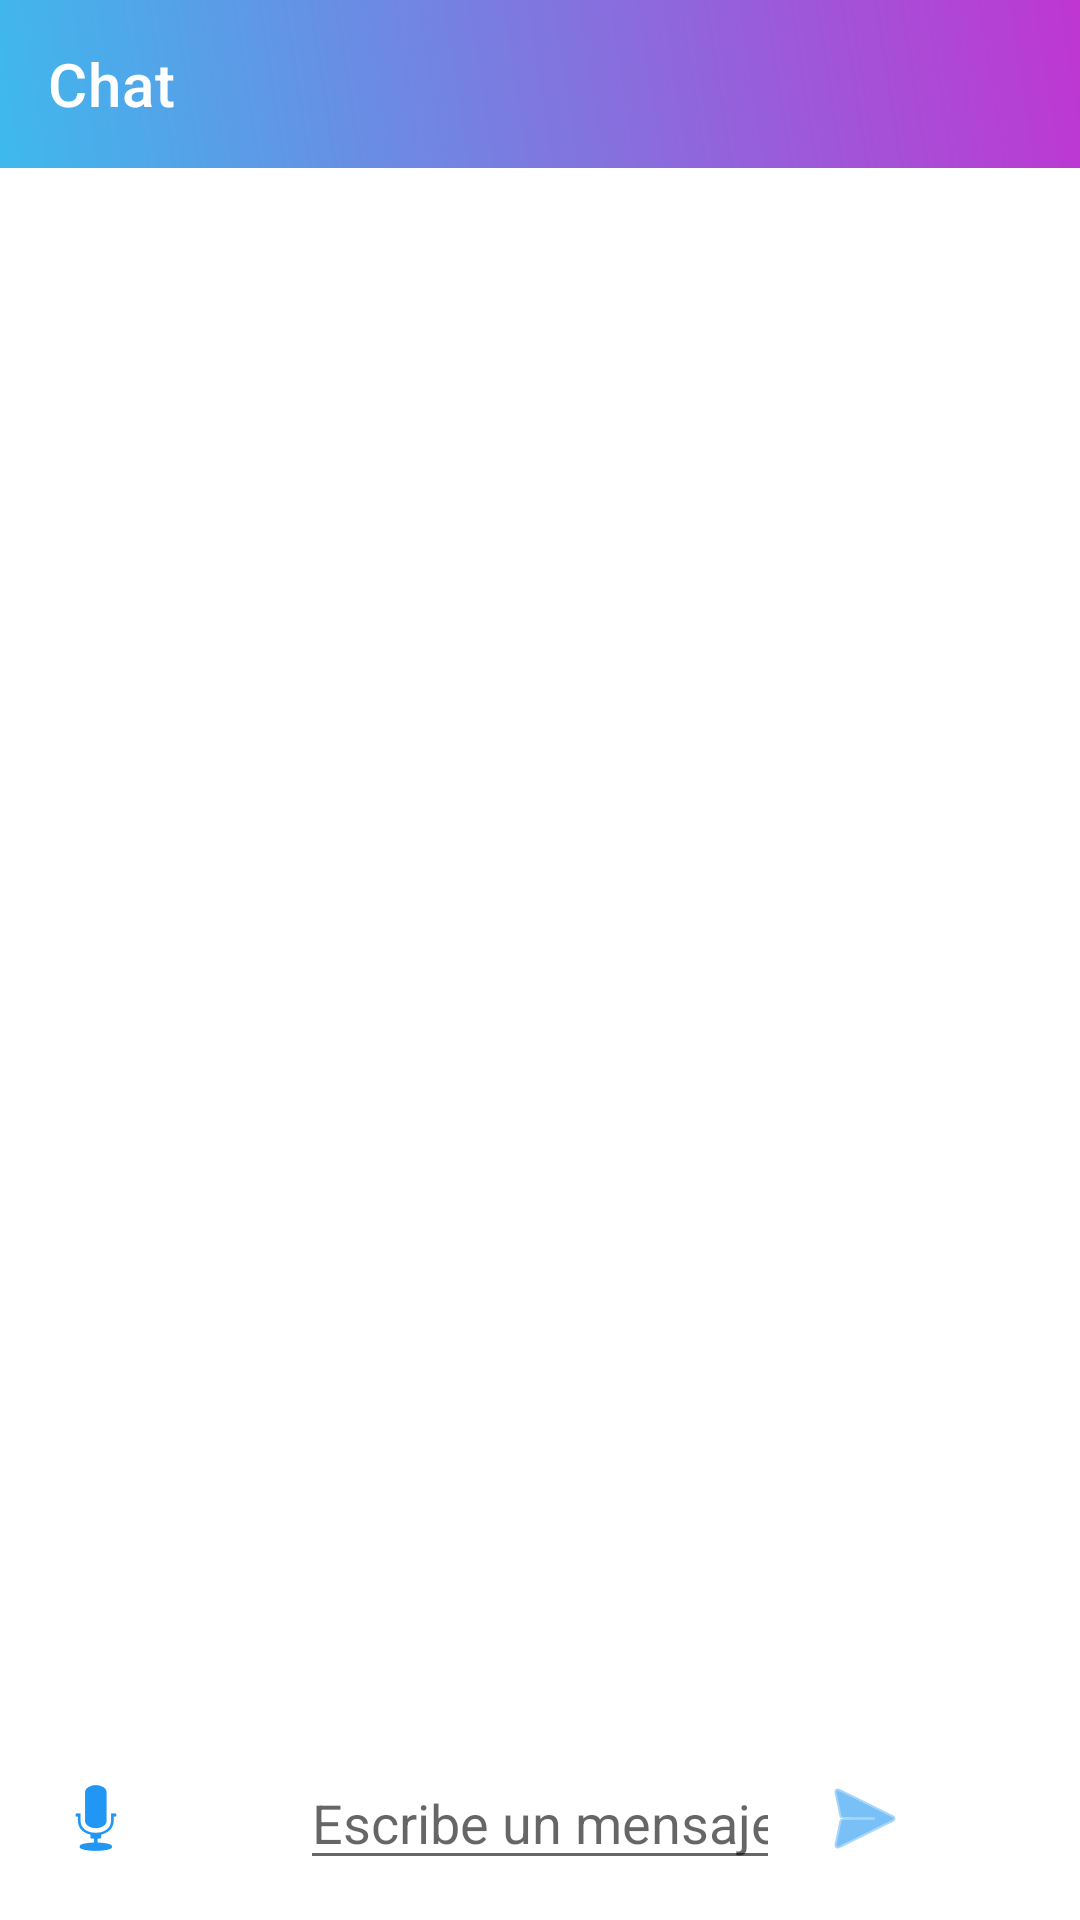

Named icons in this screenshot (1080 x 1920) and their bounding boxes, [x1,y1,x2,y2]:
Enviar mensaje: [834,1788,896,1849]
Grabar nota de voz: [75,1785,117,1851]
